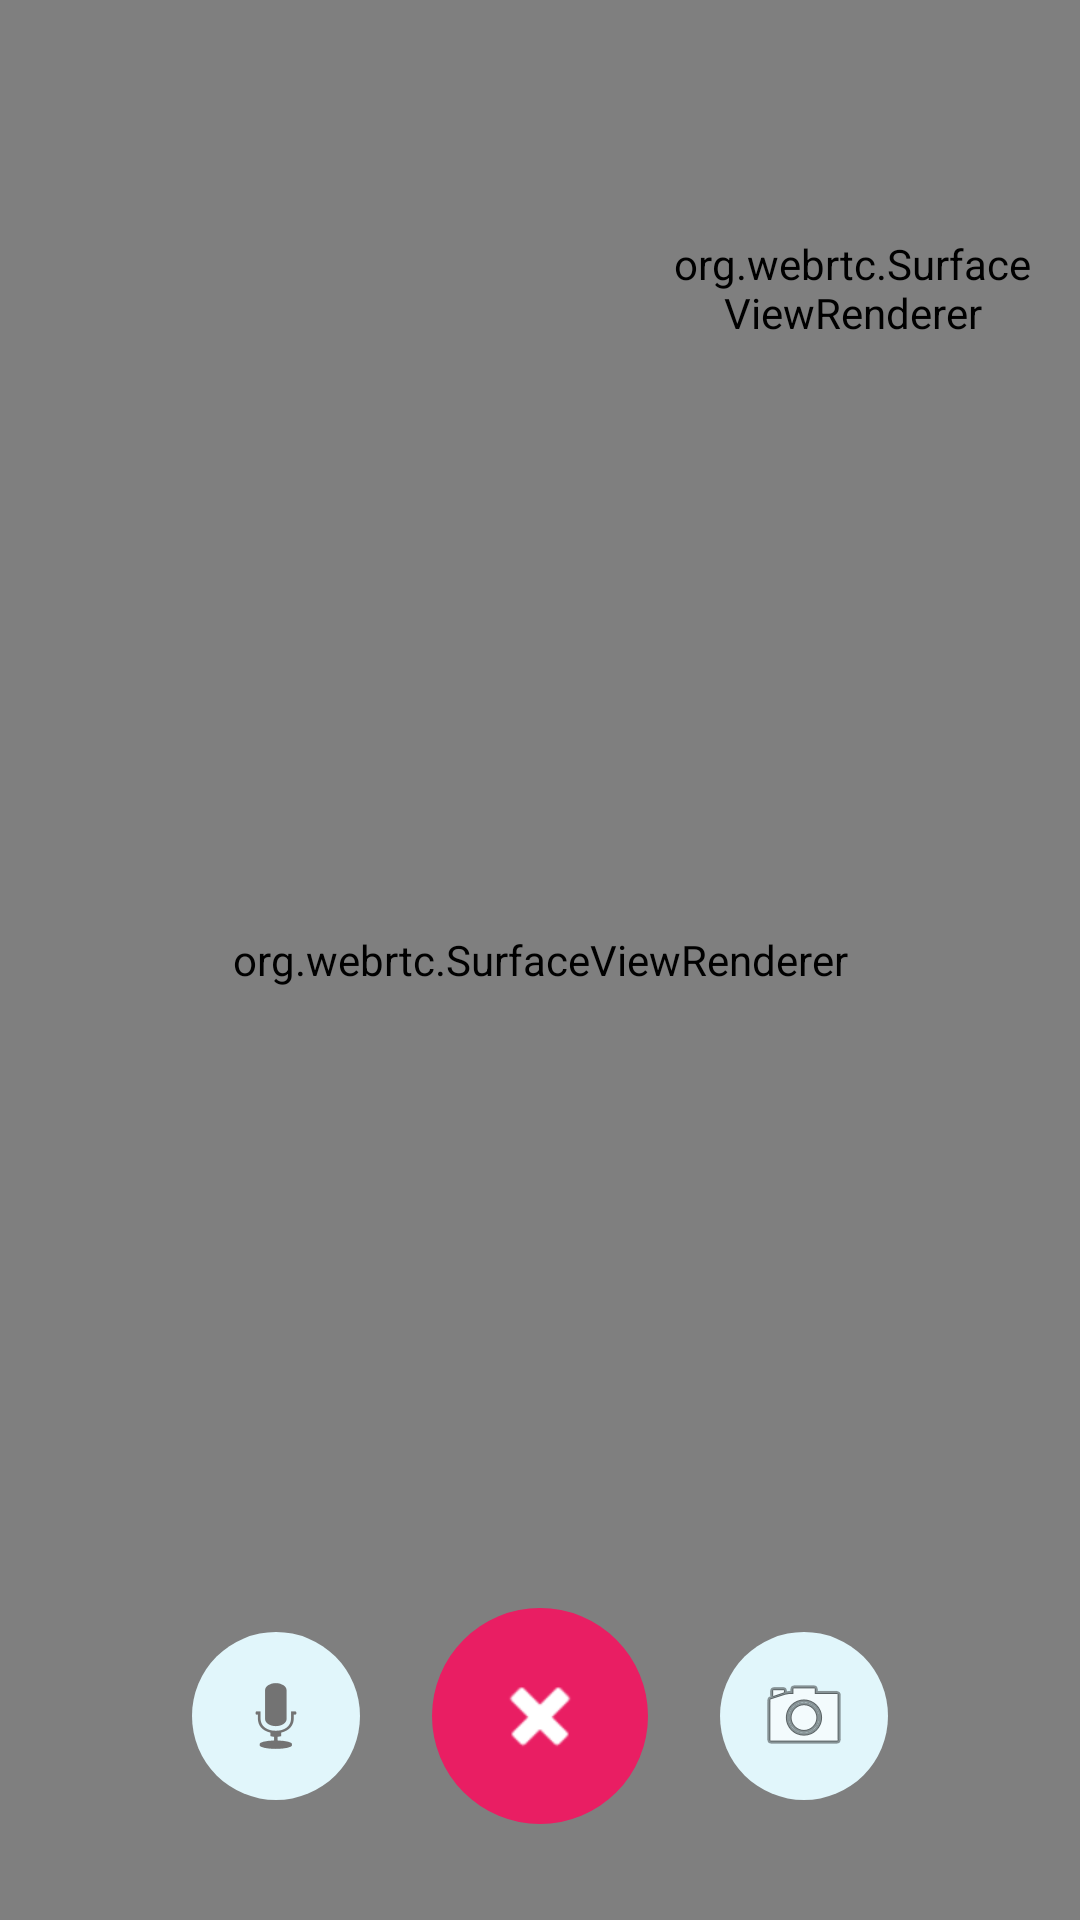

Icon bounding boxes for this 1080px×1920px phone screenshot, format (x1, y1, x2, y2):
camera: (720, 1632, 888, 1800)
delete: (432, 1608, 648, 1824)
speak now: (192, 1632, 360, 1800)
